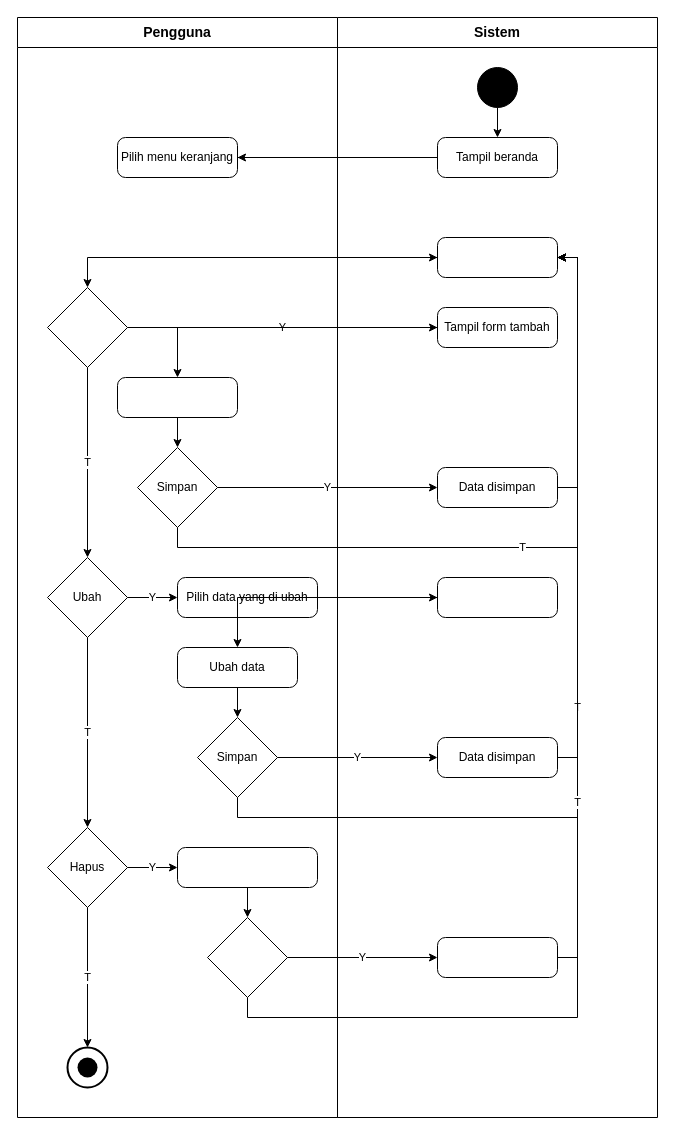
The diagram is 675 pixels wide and 1135 high, and some of its shapes have lost their labels. The centre of each missing label's shape, as x and y in pixels:
"Data dihapus" goes at (x=497, y=957).
"Pilih data yang akan dihapus" goes at (x=247, y=867).
"Tambah" goes at (x=87, y=327).
"Tambah data" goes at (x=177, y=397).
"Tampil data keranjang" goes at (x=497, y=257).
"Tampil form ubah" goes at (x=497, y=597).
"Yakin hapus" goes at (x=247, y=957).
